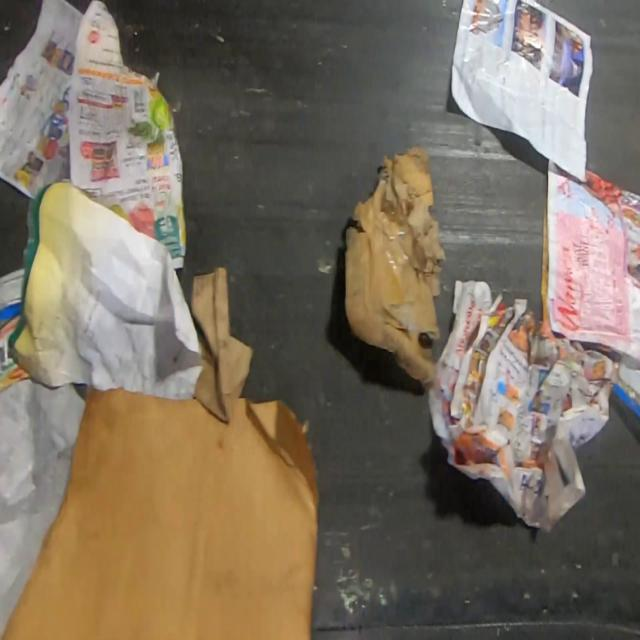cardboard: (4, 382, 322, 640), (343, 146, 449, 386), (190, 266, 256, 422)
soft_plastic: (611, 354, 640, 421)
